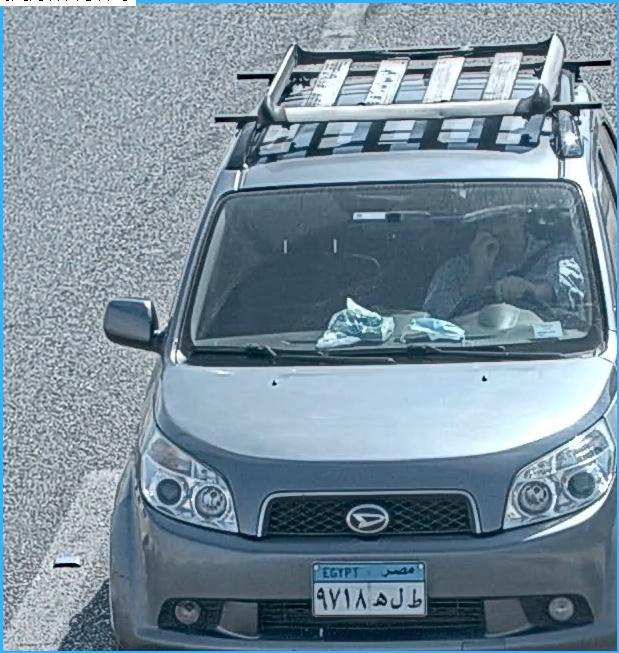windshield: (167, 175, 609, 377)
